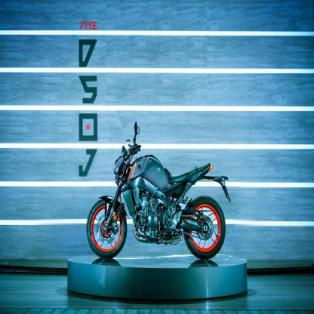Motocicleta: (87, 120, 234, 269)
